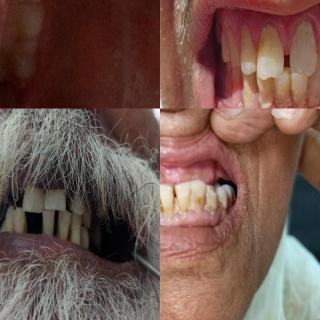Gum Swelling: (187, 210, 216, 223), (168, 214, 186, 226), (217, 209, 226, 220)
calculus: (239, 78, 255, 109), (275, 80, 292, 108), (290, 82, 308, 108), (257, 84, 275, 108), (307, 76, 320, 106), (51, 222, 65, 244)
plaque: (294, 16, 315, 78), (258, 20, 280, 66), (237, 22, 253, 66), (202, 198, 216, 220), (171, 193, 184, 216), (188, 195, 198, 212)
stains: (163, 190, 176, 218), (178, 194, 190, 218), (64, 225, 76, 245), (217, 192, 227, 214), (195, 191, 205, 210), (225, 193, 233, 210)
